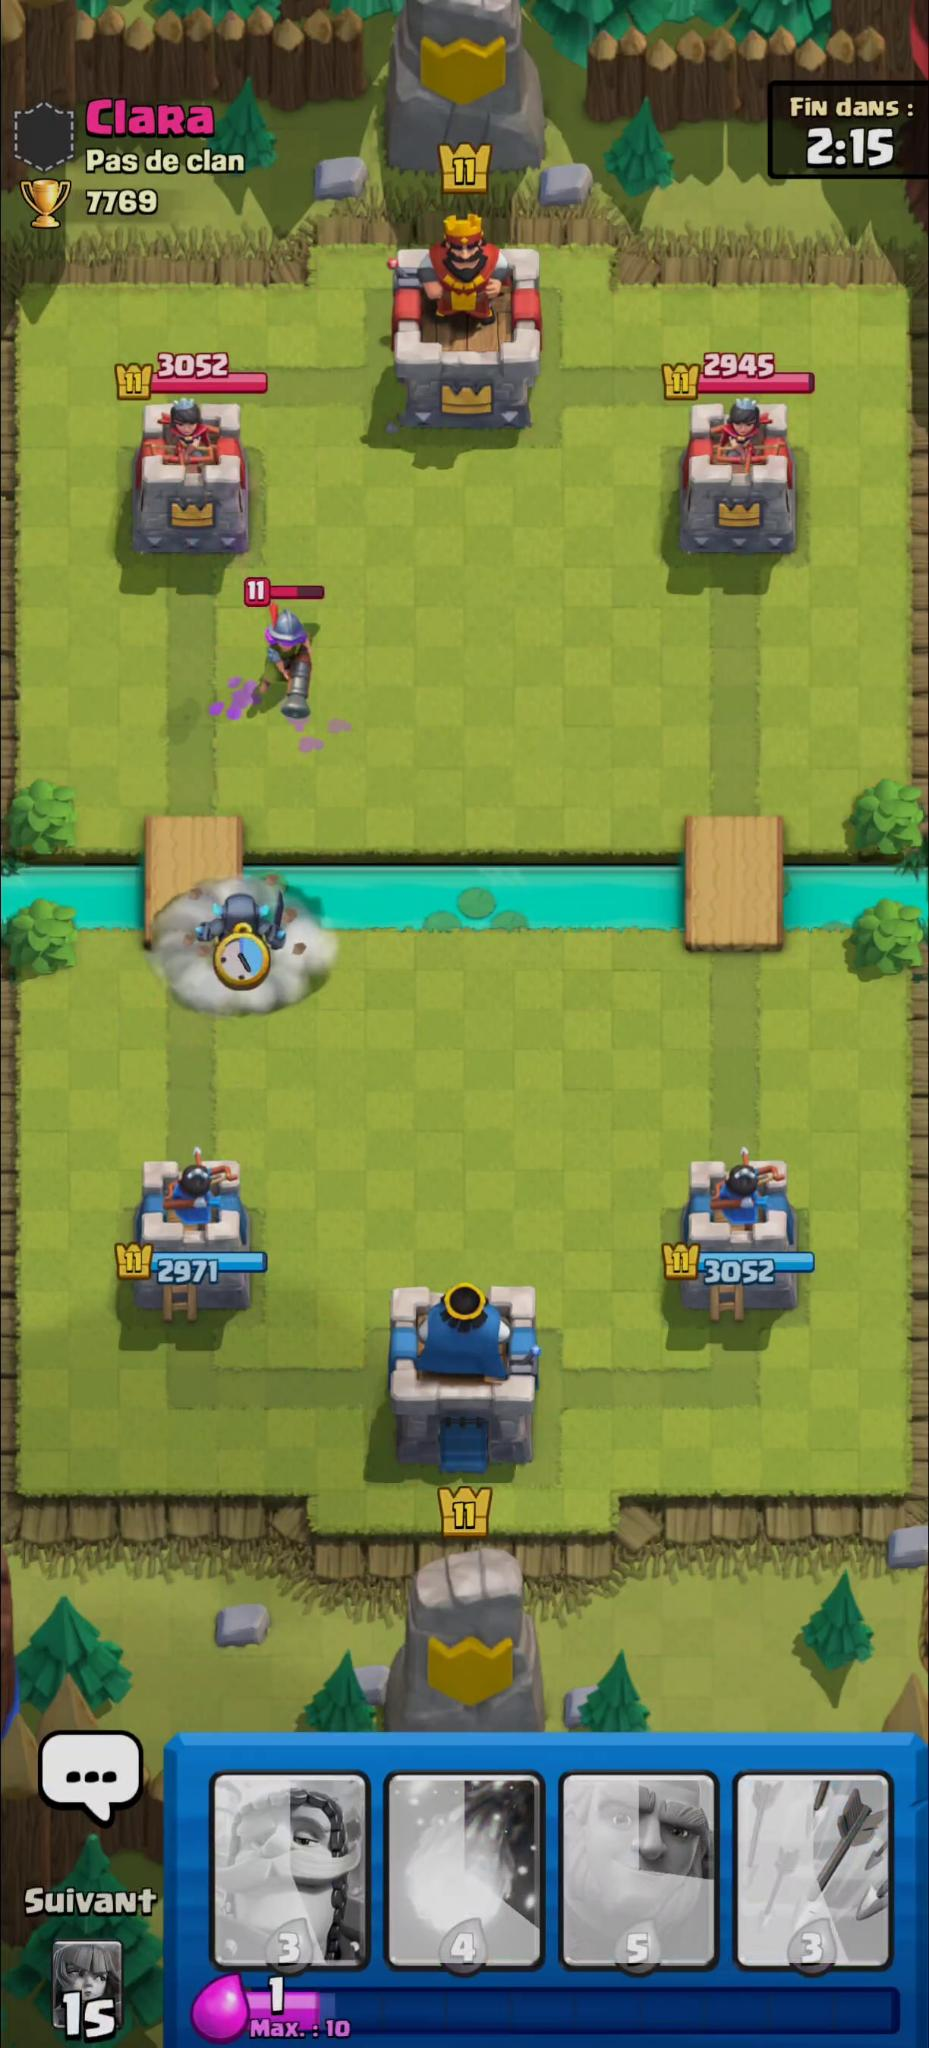mini_PEKKA: (193, 896, 293, 960)
mousquetaire: (260, 594, 319, 726)
